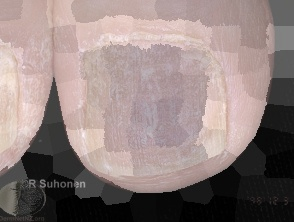Nail_psoriasis: (71, 24, 234, 181), (0, 25, 56, 171)
